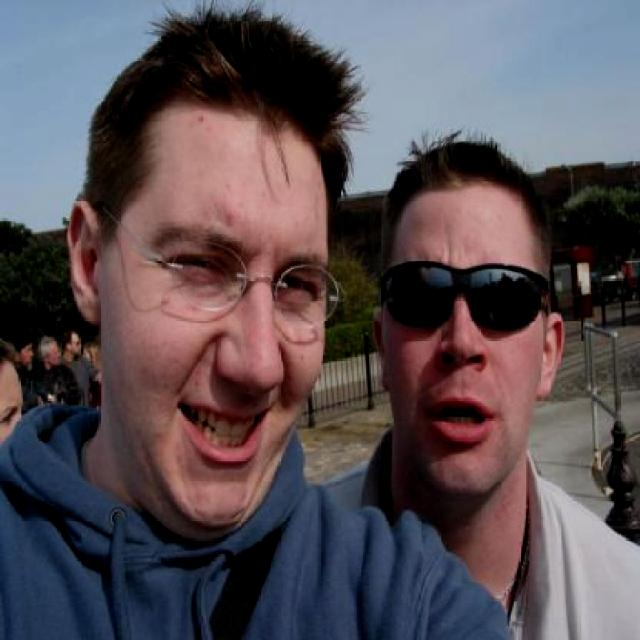face_nomask: (152, 242, 333, 470), (386, 257, 546, 448)
glasses: (154, 235, 346, 339), (374, 256, 557, 350)
head_nohelmet: (131, 44, 346, 211), (367, 148, 559, 252)
person: (0, 37, 366, 640), (351, 132, 640, 640)
